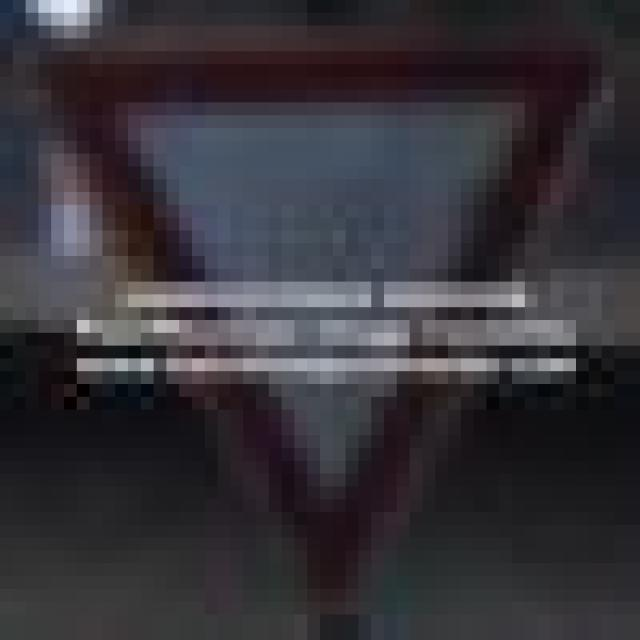gap_in_median: (26, 26, 627, 602)
